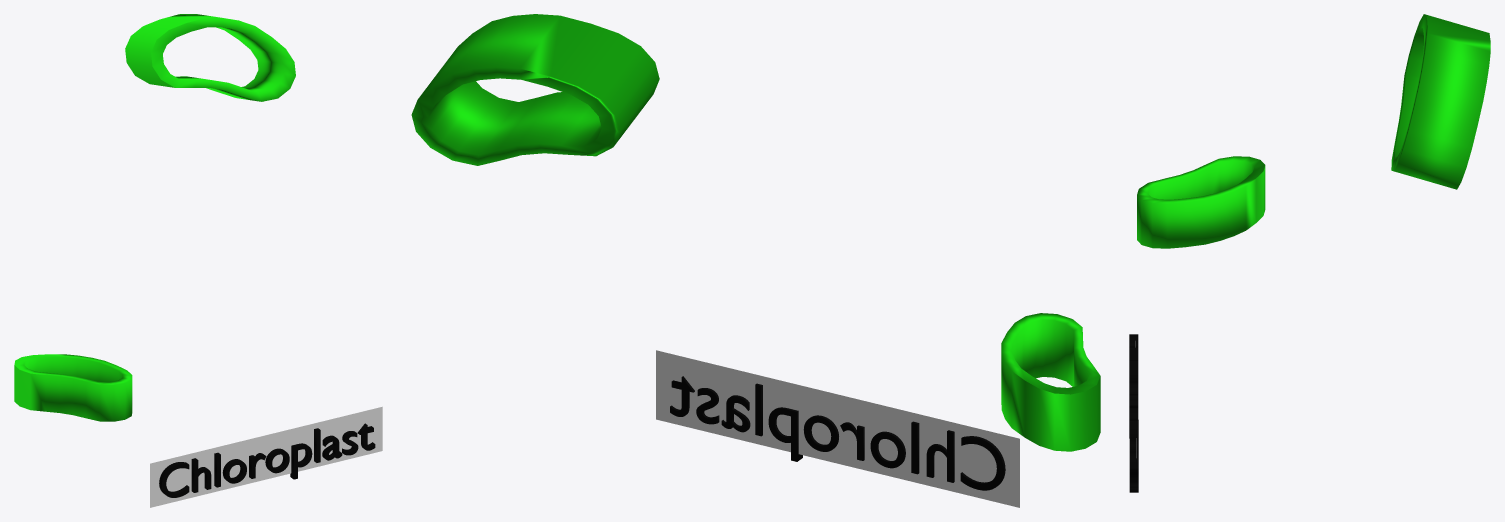
The model's file is chloroplast.gltf.
3 renders of one model, left to right at view 1: azimuth 30°, elevation 25°; view 2: azimuth 150°, elevation 25°; view 3: azimuth 270°, elevation 25°, orthographic. The views are drawn at different scales.
Visible parts, largest first — view 1: Verde_Interno, Plane.001, Text.002; view 2: Verde_Interno, Plane.001, Text.002; view 3: Verde_Interno, Text.002.
Boxes of the visible parts, x1,y1,x2,y2 form: Verde_Interno: (14,14,295,421); Plane.001: (150,406,382,507); Text.002: (159,423,375,497); Verde_Interno: (411,14,1100,451); Plane.001: (656,350,1019,507); Text.002: (670,376,1005,490); Verde_Interno: (1137,14,1490,248); Text.002: (1129,334,1138,492).
Size of the model in its own units: 1.97 by 2 by 1.47.
